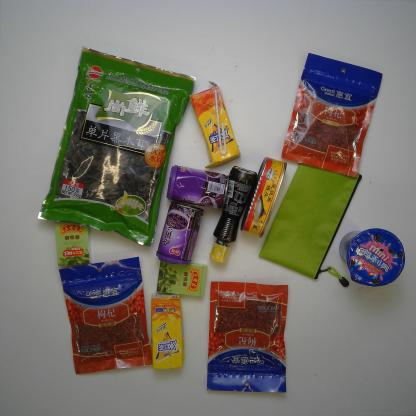Candy: (151, 256, 215, 299), (52, 214, 96, 270)
Canned Food: (240, 152, 288, 240), (162, 160, 232, 210), (155, 198, 206, 264)
Dessert: (341, 220, 409, 290)
Dried Food: (36, 44, 198, 248)
Dried Fruit: (280, 50, 385, 180), (56, 255, 156, 377), (202, 274, 298, 398)
Drink: (190, 83, 244, 170), (145, 291, 190, 372)
Seasoner: (209, 163, 260, 270)
Stationery: (255, 162, 368, 288)
